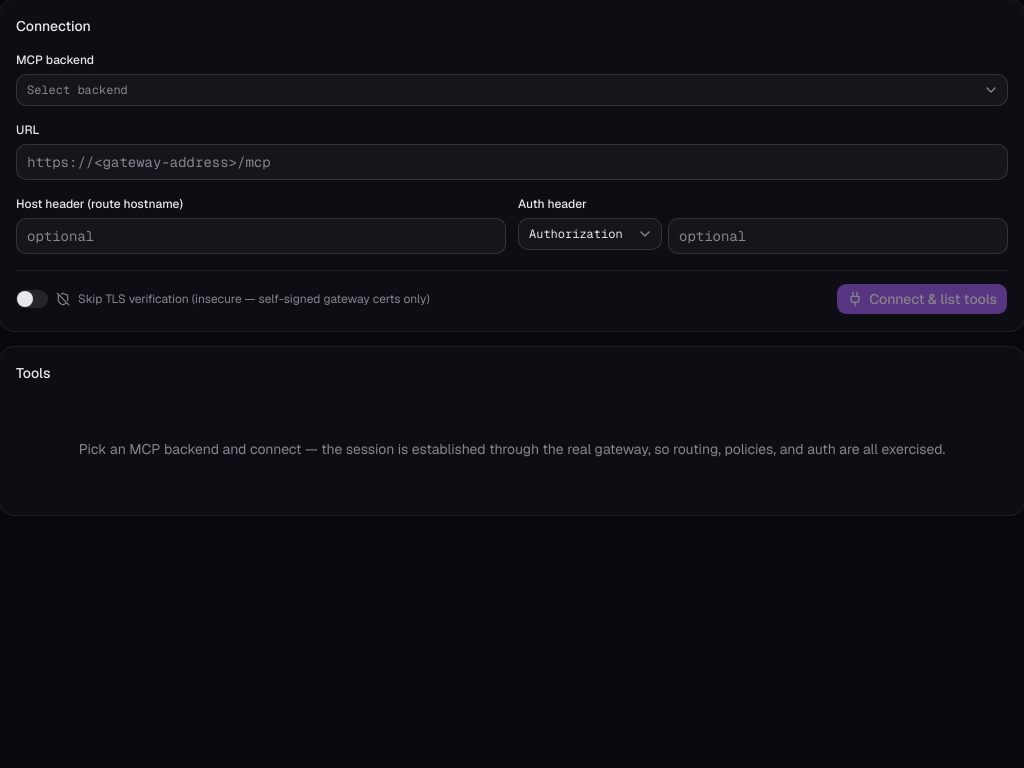
McpPanel › shows BFF rejections (HTTP errors) as a connection error
The width and height of the screenshot is (1024, 768).
Click the dropdown labelled "Select backend" at (77, 90), box [16, 74, 1008, 106]
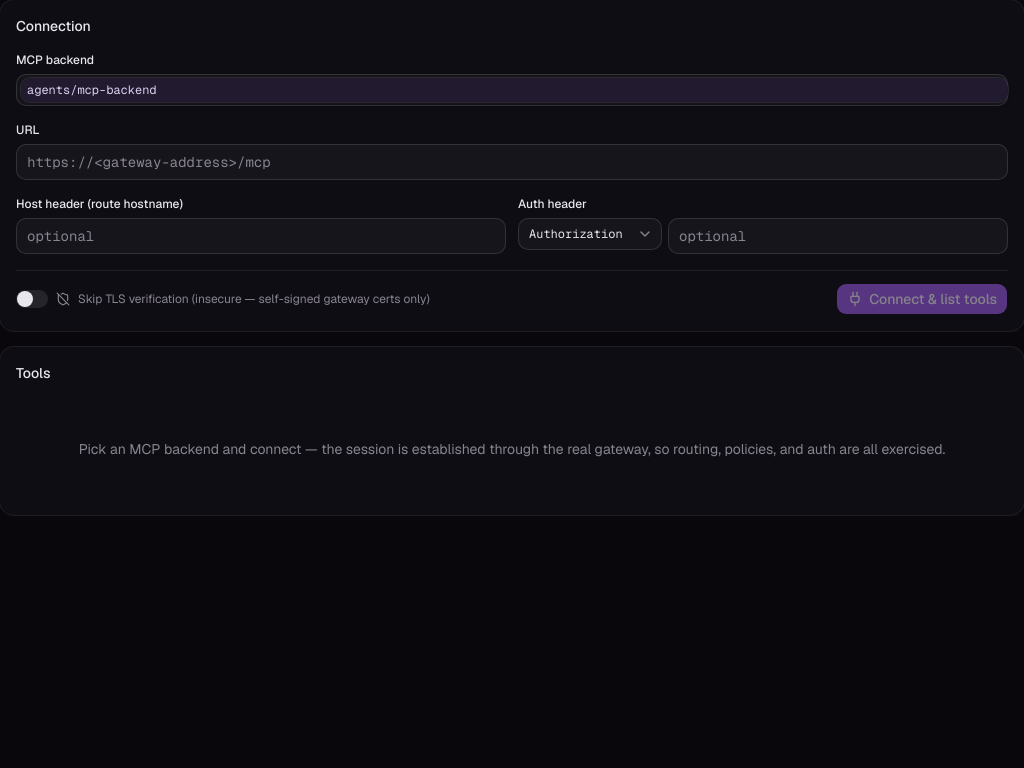
Click the option "agents/mcp-backend" at (49, 90), box [21, 78, 1008, 102]
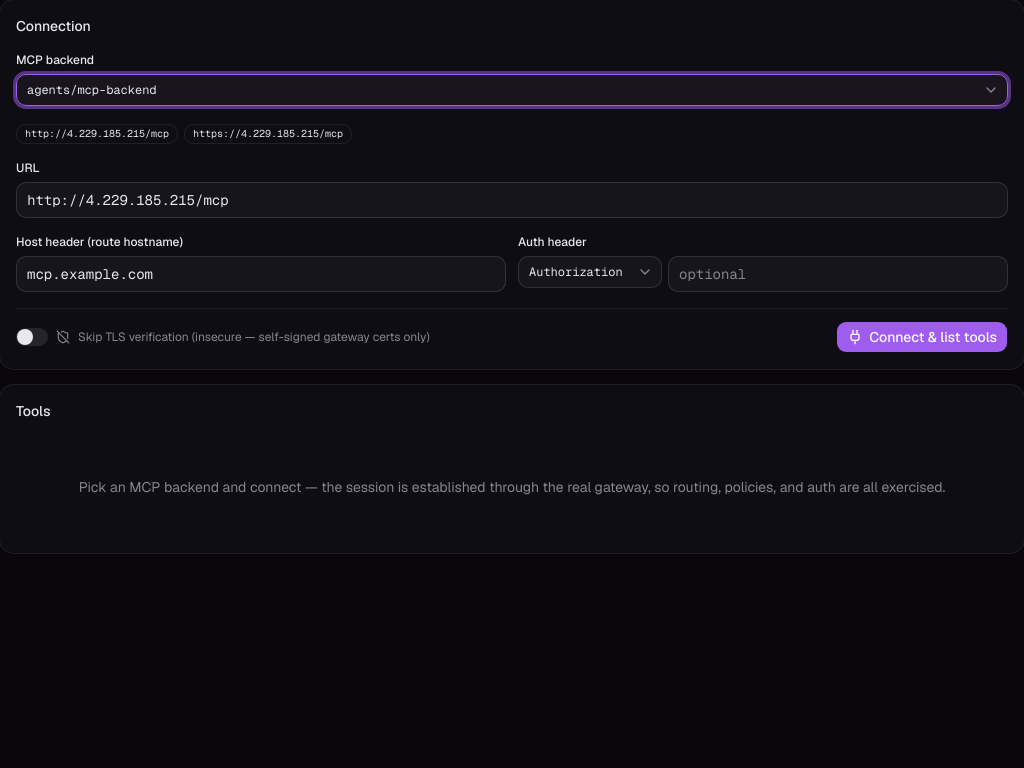
Expected: the field showing "http://4.229.185.215/mcp" below "URL" is shown, [16, 182, 1008, 218]
Click the button "Connect & list tools" at (922, 337), box [836, 321, 1008, 353]
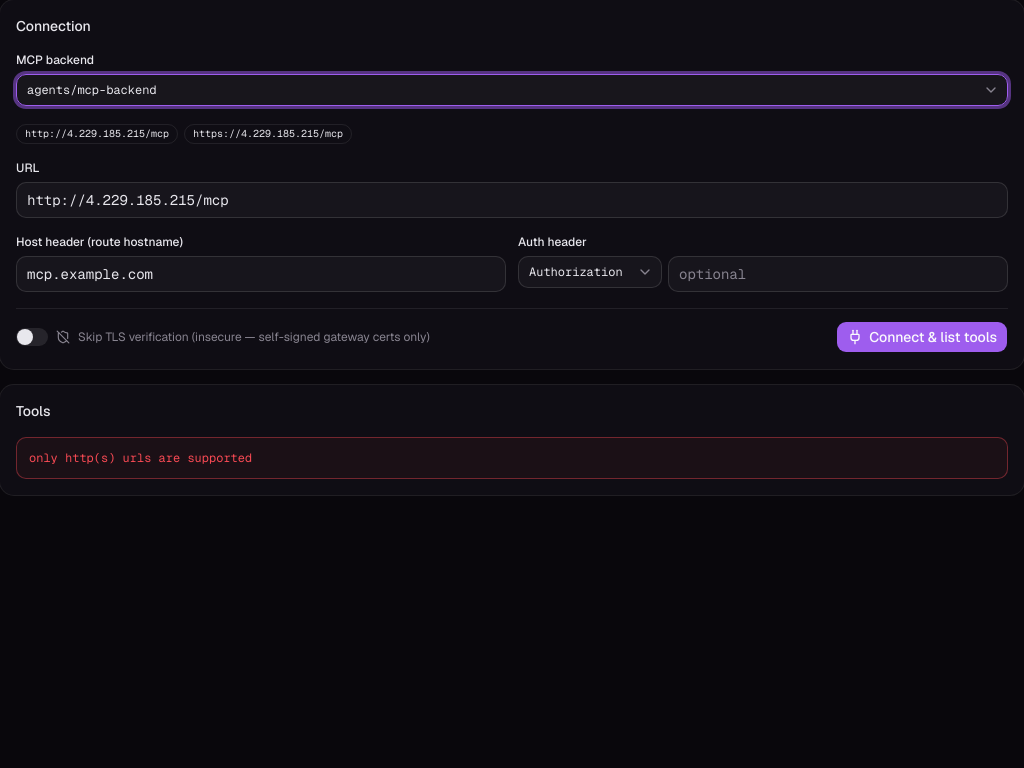
Expected: the text "only http(s) urls are supported" is shown, [16, 437, 1008, 479]
